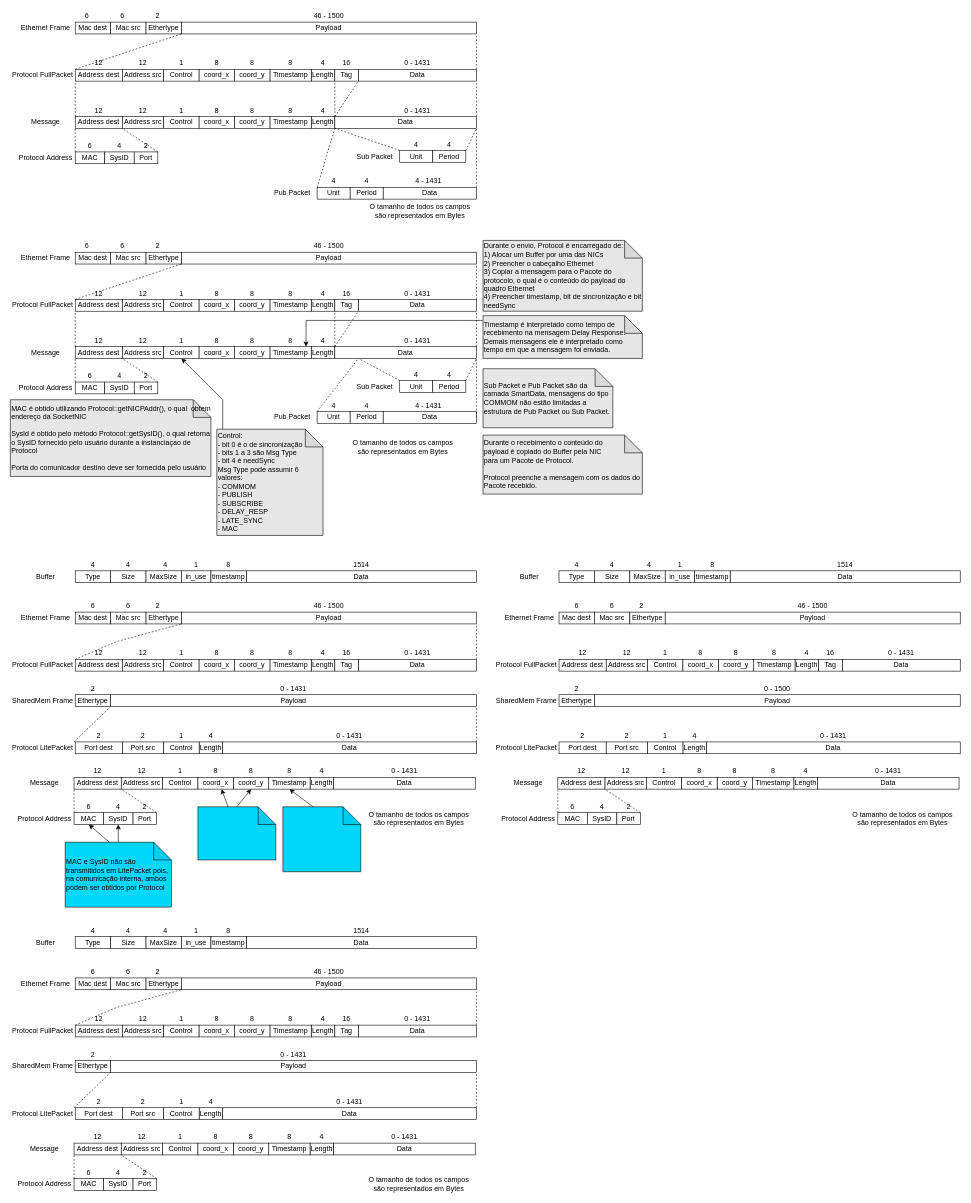
The diagram is 971 pixels wide and 1203 high, and some of its shapes have lost their labels. The box of each missing label's shape, as (x1, y1, x2, y2) in pixels:
As coordenadas da mensagem são obtidas apenas quando o usuário requisitá-las.: (197, 806, 276, 860)
O Timestamp de envio da mensagem é o timestamp de recebimento do buffer na NIC: (282, 806, 361, 872)
